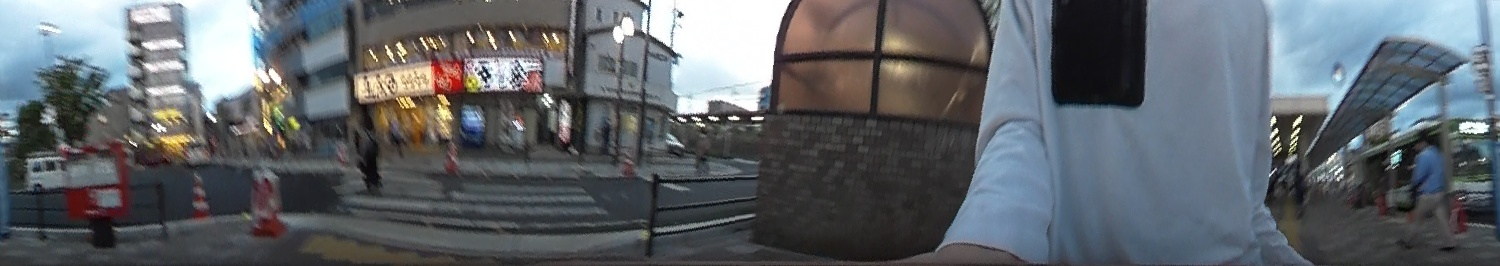difficult_person: (382, 110, 409, 159)
person: (1392, 129, 1458, 253), (346, 101, 380, 191)
